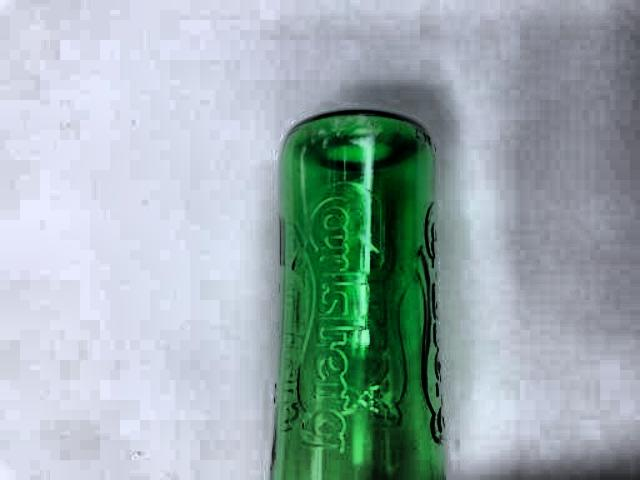Bottles: (250, 84, 501, 480)
